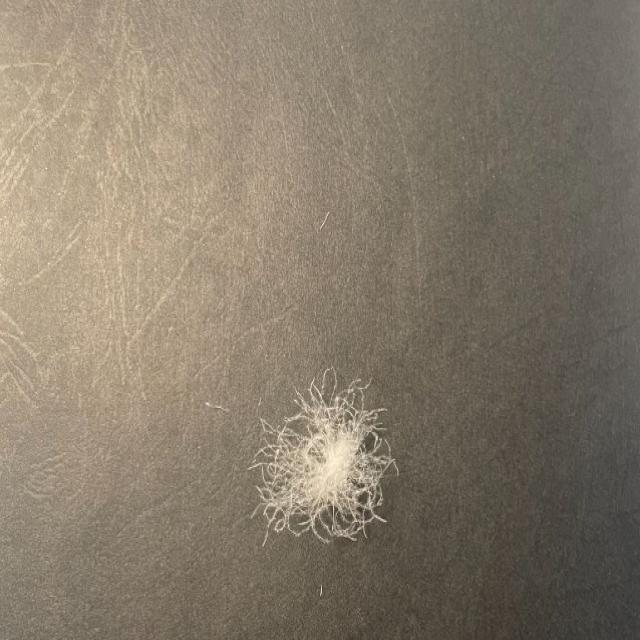feather: (246, 365, 403, 549)
